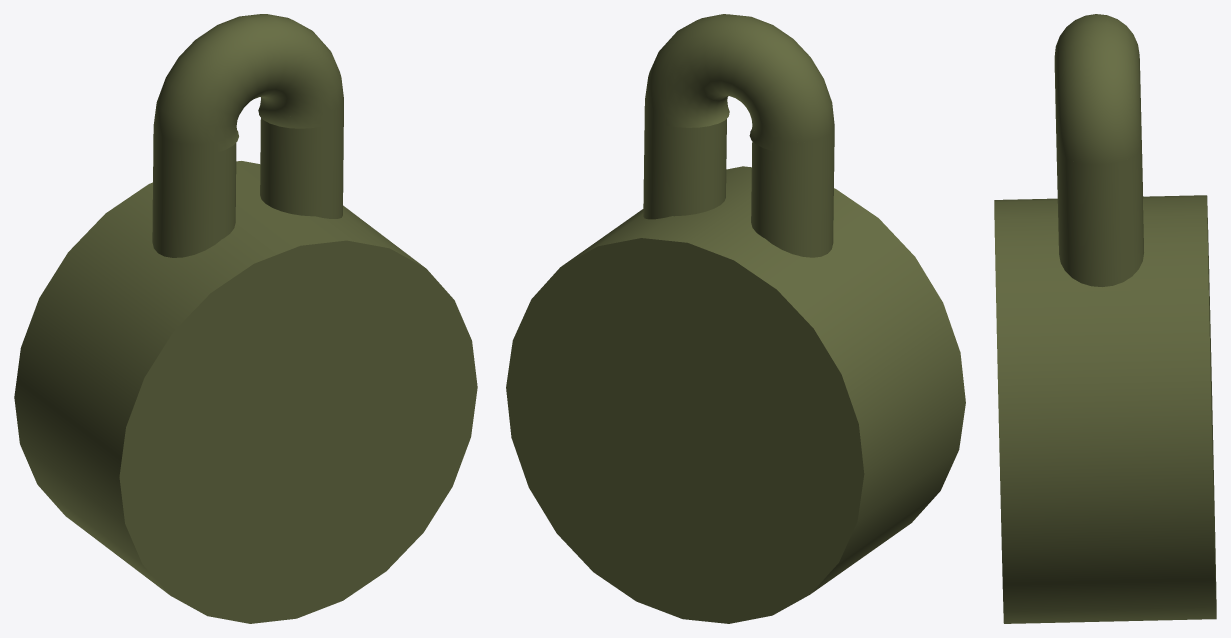
Rendered from Lock.fbx.
3 views of the same model, side by side, from view 1: azimuth 30°, elevation 25°; view 2: azimuth 150°, elevation 25°; view 3: azimuth 270°, elevation 25° (orthographic). The views are drawn at different scales.
Parts seen in each view (by area): view 1: Merged_Meshes1; view 2: Merged_Meshes1; view 3: Merged_Meshes1.
Part boxes in pixels (bbox=[...]): Merged_Meshes1: bbox=[14, 14, 477, 623]; Merged_Meshes1: bbox=[506, 14, 965, 623]; Merged_Meshes1: bbox=[994, 14, 1216, 623].
Size of the model in its own units: 2.01 by 3.01 by 1.05.
